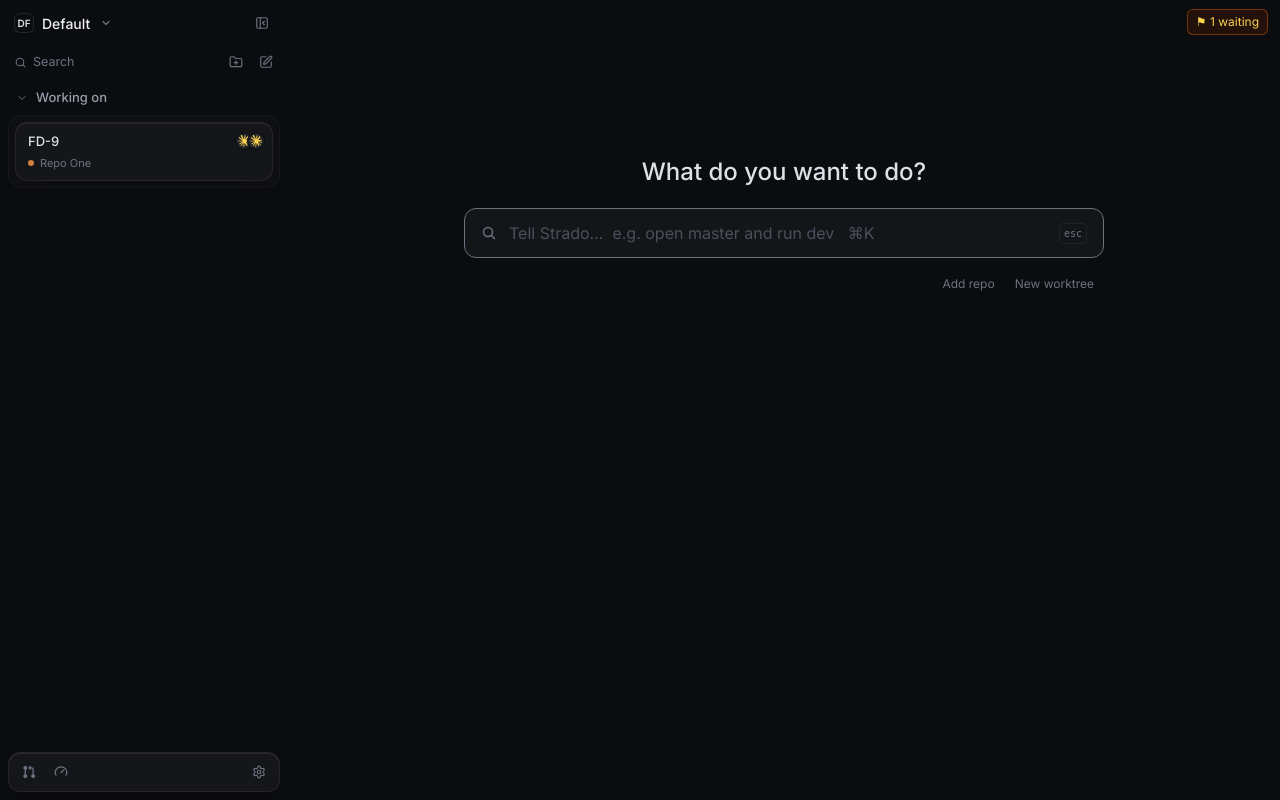
Test case: Dashboard inline hub › home: no "All worktrees" link (that page is gone); "⚑ N waiting" selects the agent that needs you
Expected: the heading "What do you want to do?" is shown, left=642, top=157, right=926, bottom=186
What coordinates should you click on to do the following:
click the button "⚑ 1 waiting"
I would click on:
 (1227, 22)
Its box is left=1187, top=9, right=1268, bottom=35.
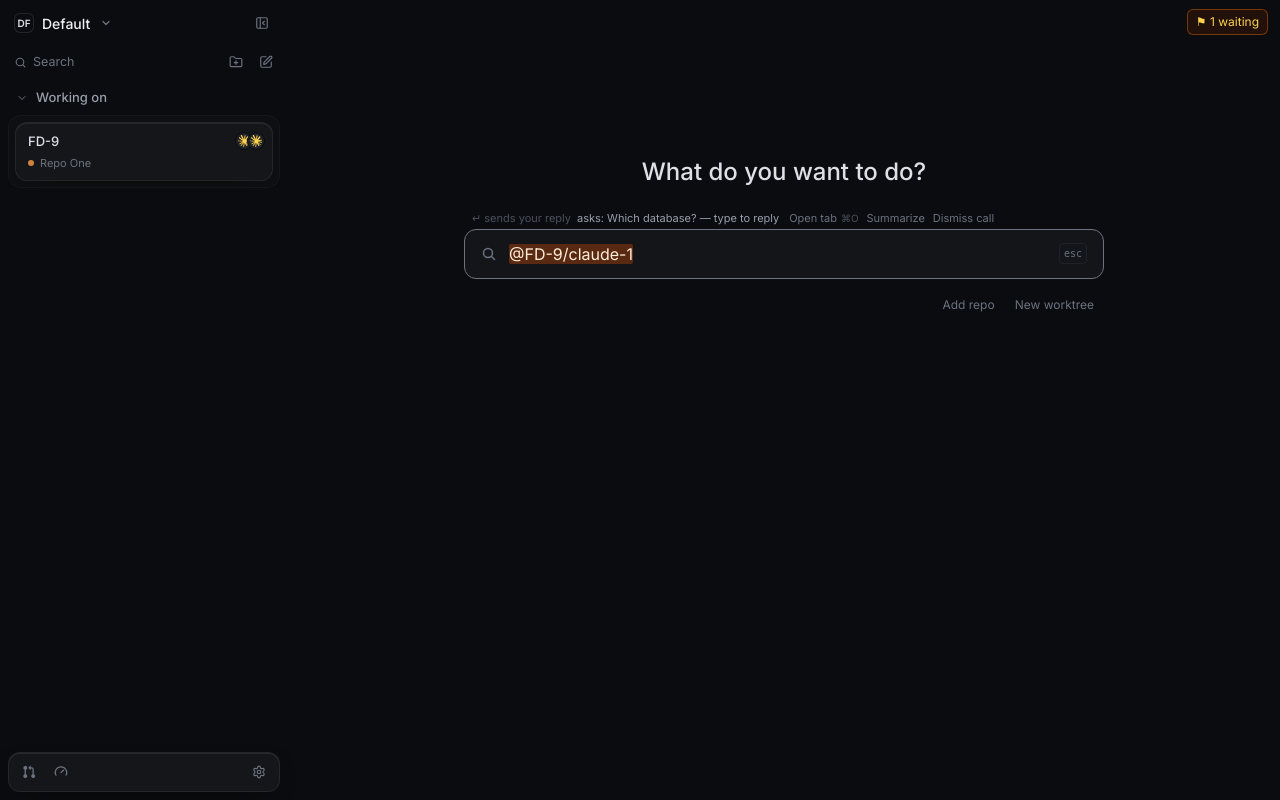
Now the element with test id "agent-line" is shown, box left=472, top=210, right=998, bottom=226
